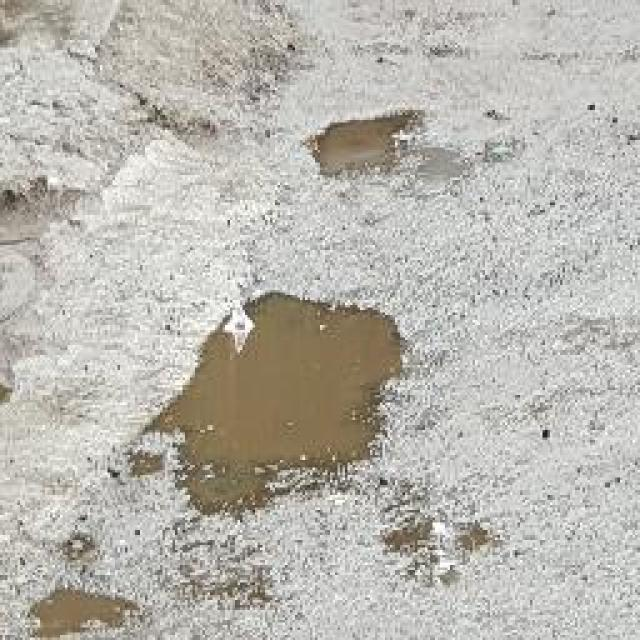waterlogging: (139, 284, 416, 520), (304, 91, 426, 195)
